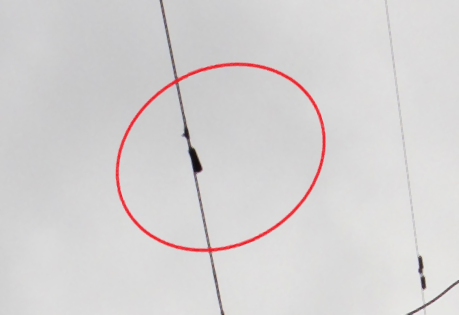damper: (415, 253, 428, 292)
damper_defect: (180, 110, 204, 175)
